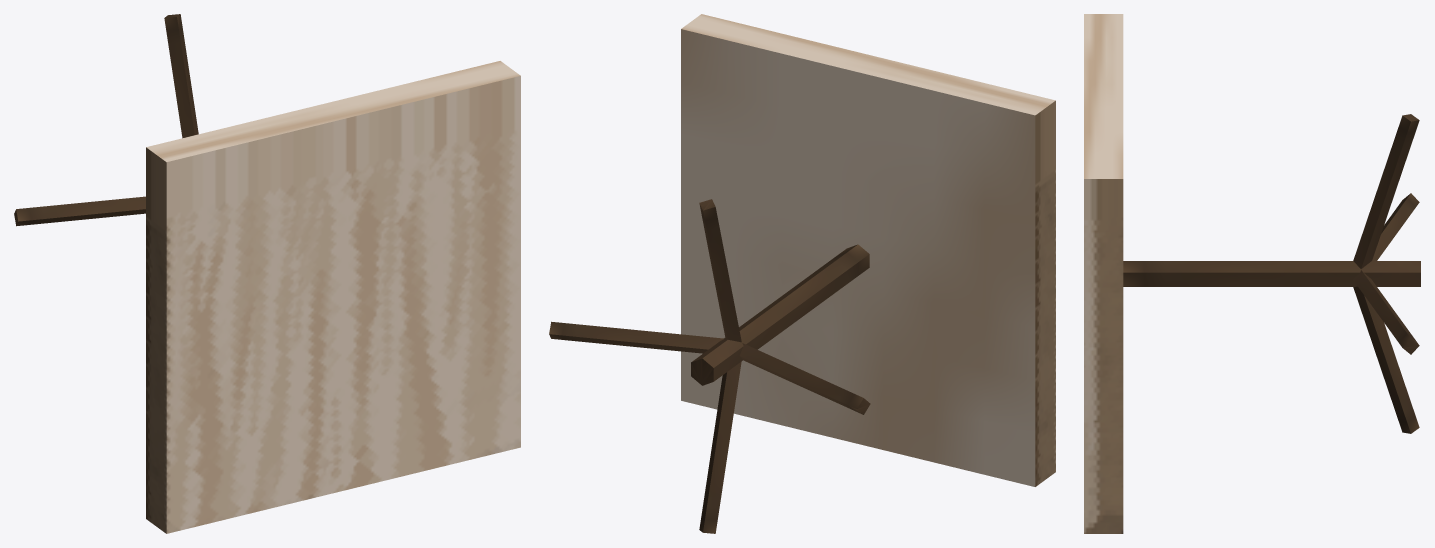
File: pz_g019_light_wood_restaurant_table.obj
3 views of the same model, side by side, from view 1: azimuth 30°, elevation 25°; view 2: azimuth 150°, elevation 25°; view 3: azimuth 270°, elevation 25° (orthographic). The views are drawn at different scales.
Parts seen in each view (by area): view 1: wood_top_top, wood_top_right, wood_top_front, wood_foot_side; view 2: wood_top_bottom, wood_foot_side, wood_top_right, wood_top_front, wood_column_side; view 3: wood_top_left, wood_foot_side, wood_column_side, wood_top_front.
Part boxes in pixels (box(x1,y1,x2,y2)): wood_top_top: box(166, 76, 520, 533); wood_top_right: box(146, 147, 166, 533); wood_top_front: box(146, 61, 520, 162); wood_foot_side: box(16, 14, 198, 226); wood_top_bottom: box(681, 29, 1035, 486); wood_foot_side: box(549, 204, 863, 533); wood_top_right: box(1035, 100, 1055, 486); wood_top_front: box(681, 14, 1055, 115); wood_column_side: box(691, 244, 869, 381); wood_top_left: box(1084, 179, 1123, 533); wood_foot_side: box(1352, 115, 1419, 433); wood_column_side: box(1123, 261, 1420, 286); wood_top_front: box(1084, 14, 1123, 178).
Bounding box in the file's own units: 0.9976 × 1 × 0.8599.
1 material, 1 textured.
